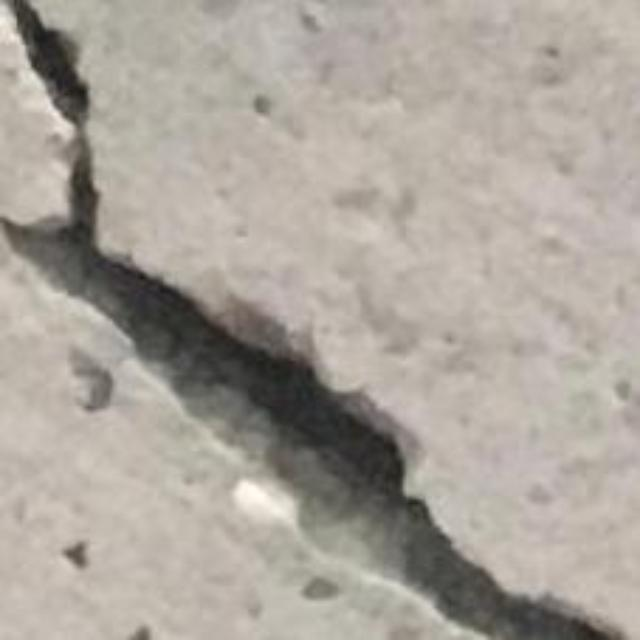crack: (3, 0, 623, 639)
